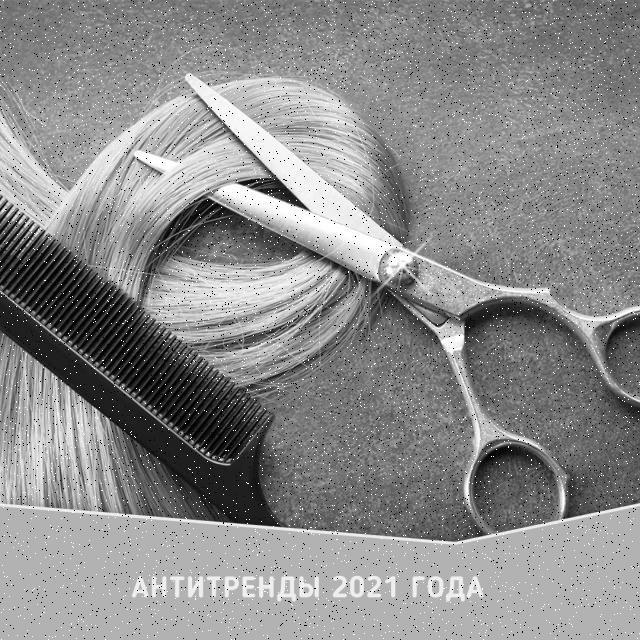scissors: (118, 53, 640, 547)
